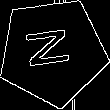N_E: (25, 29, 80, 75)
